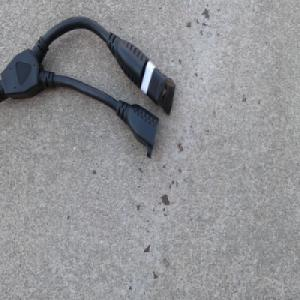Wire: (0, 15, 177, 160)
